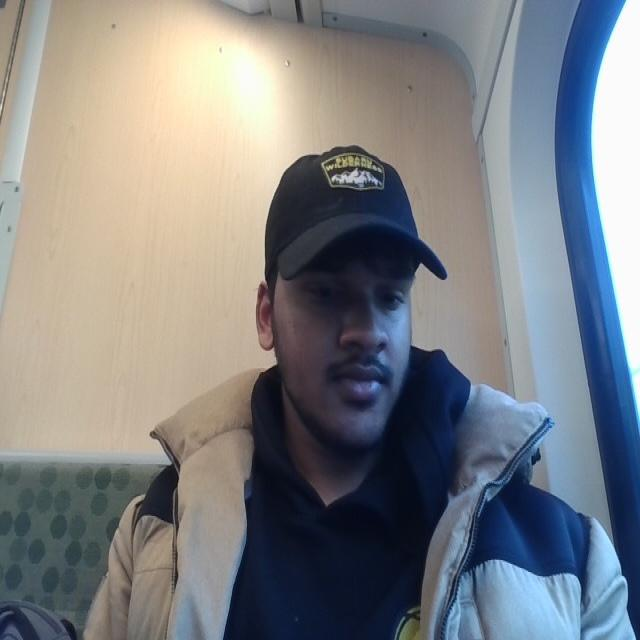hat: (259, 137, 451, 284)
